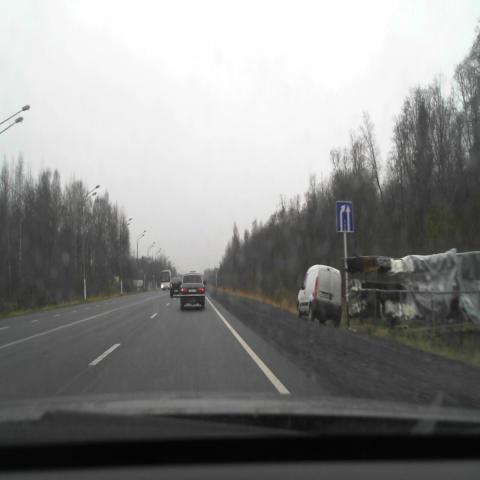5_15_5: (336, 201, 354, 233)
